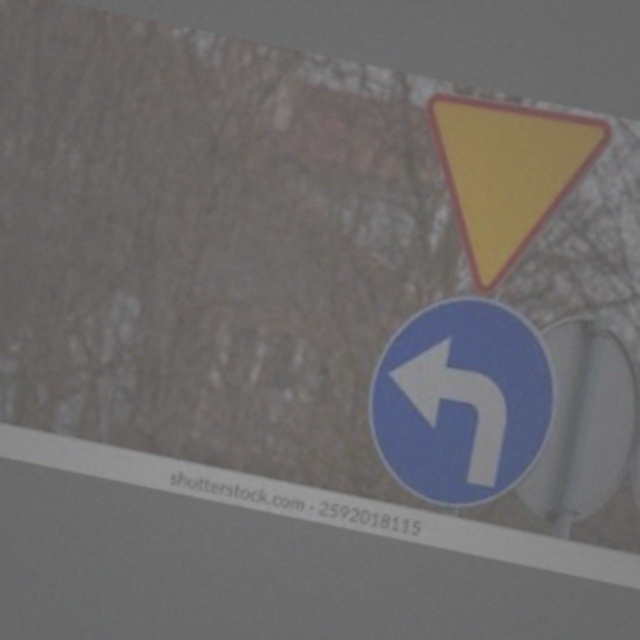Compulsory_Turn_Left_Ahead: (351, 281, 569, 519)
